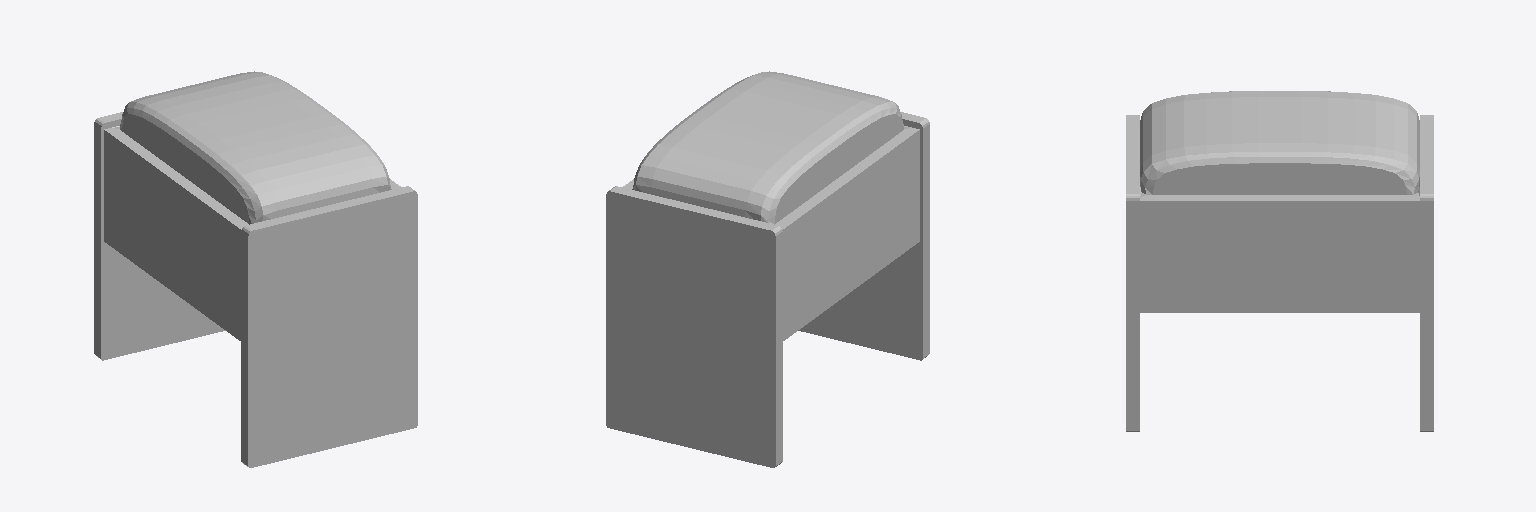
The model's file is Vanity Stool.obj.
3 renders of one model, left to right at view 1: azimuth 30°, elevation 25°; view 2: azimuth 150°, elevation 25°; view 3: azimuth 270°, elevation 25°, orthographic.
Visible parts, largest first — view 1: Cube; view 2: Cube; view 3: Cube.
Part boxes in pixels (x1,y1,x2,y2): Cube: (94, 71, 417, 467); Cube: (606, 71, 929, 467); Cube: (1126, 91, 1433, 431).
Bounding box in the file's own units: 2.79 × 4.27 × 4.4.